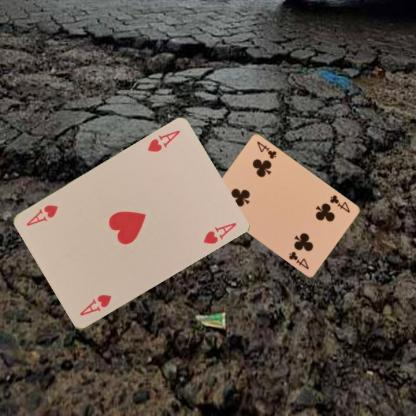4c: (327, 192, 351, 214)
Ah: (144, 128, 182, 154), (77, 292, 113, 318)
